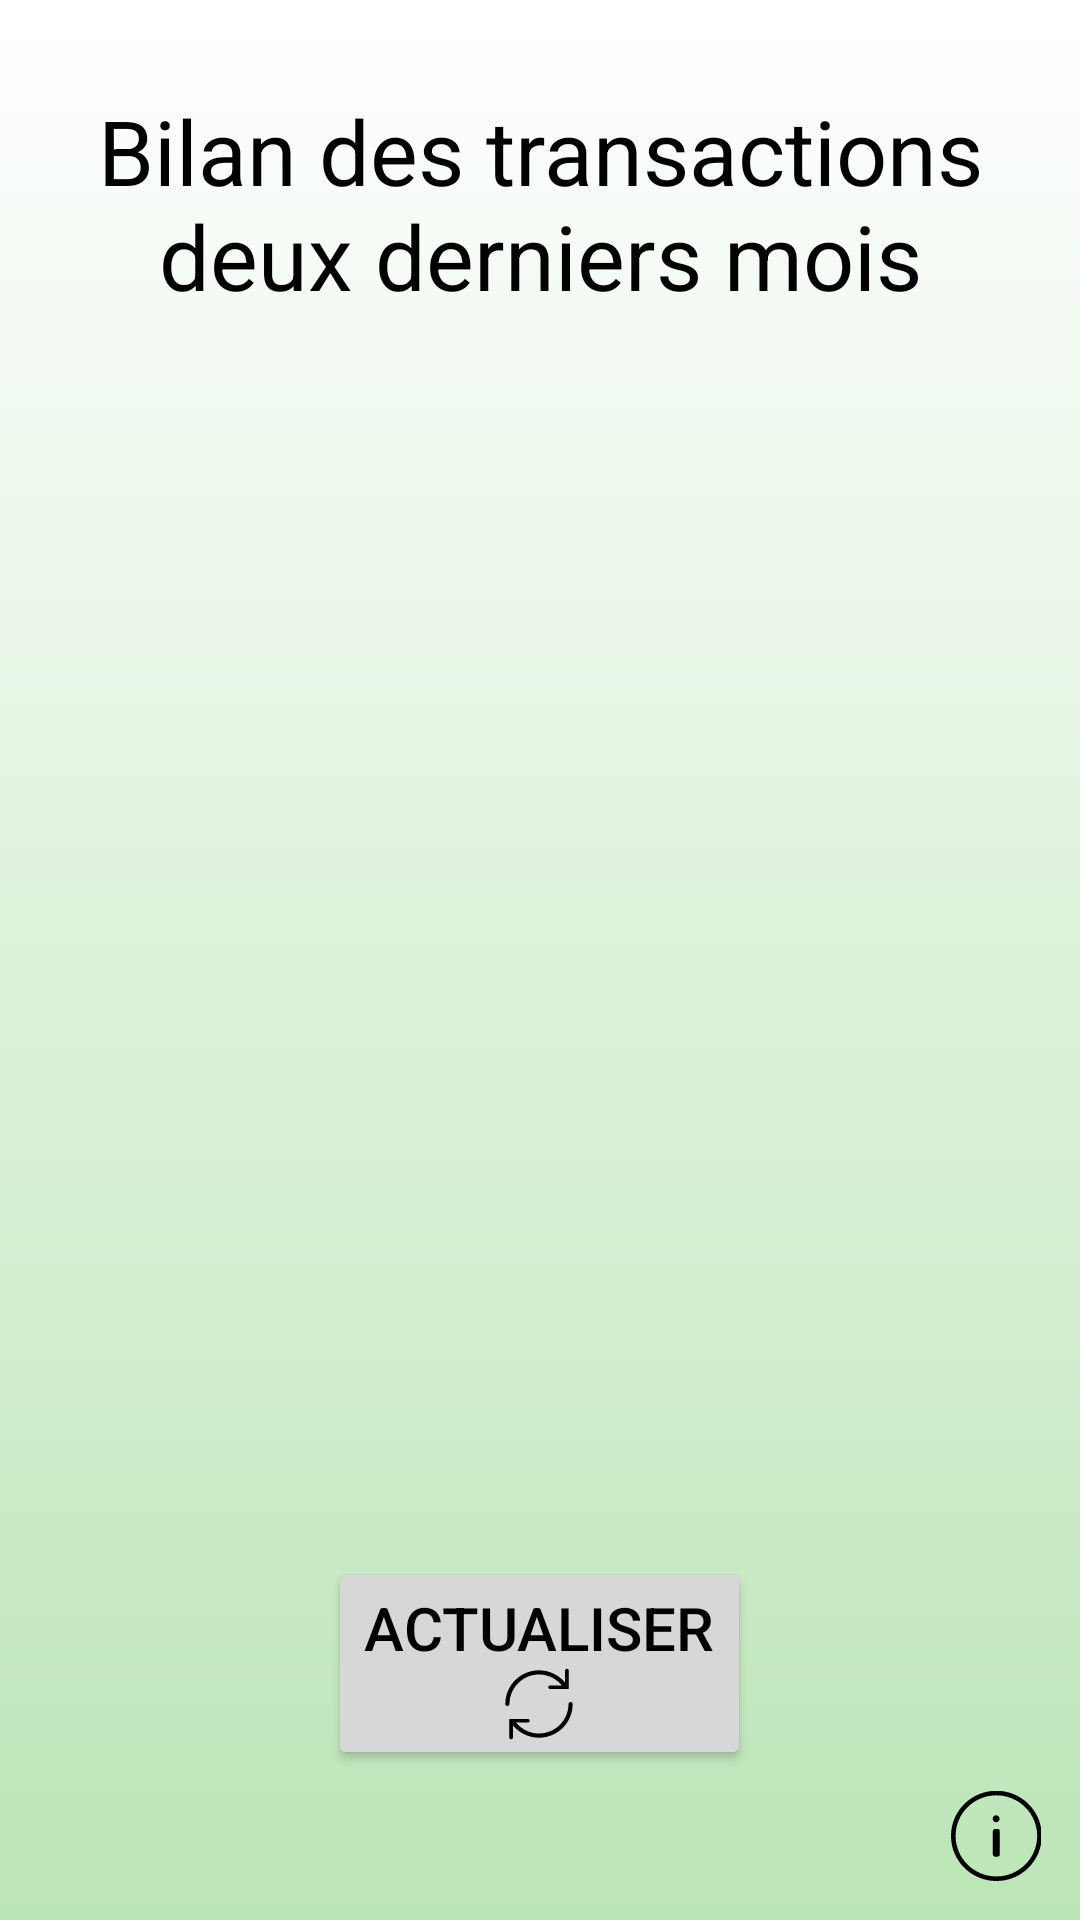

Icons on this 1080×1920 Android screen, each with the point to tap as (x,y):
infobulle: (996,1836)
